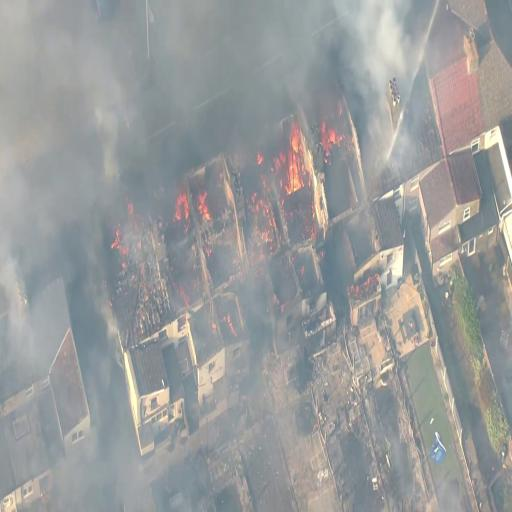fire: (281, 122, 307, 184)
smoke: (350, 0, 412, 81)
